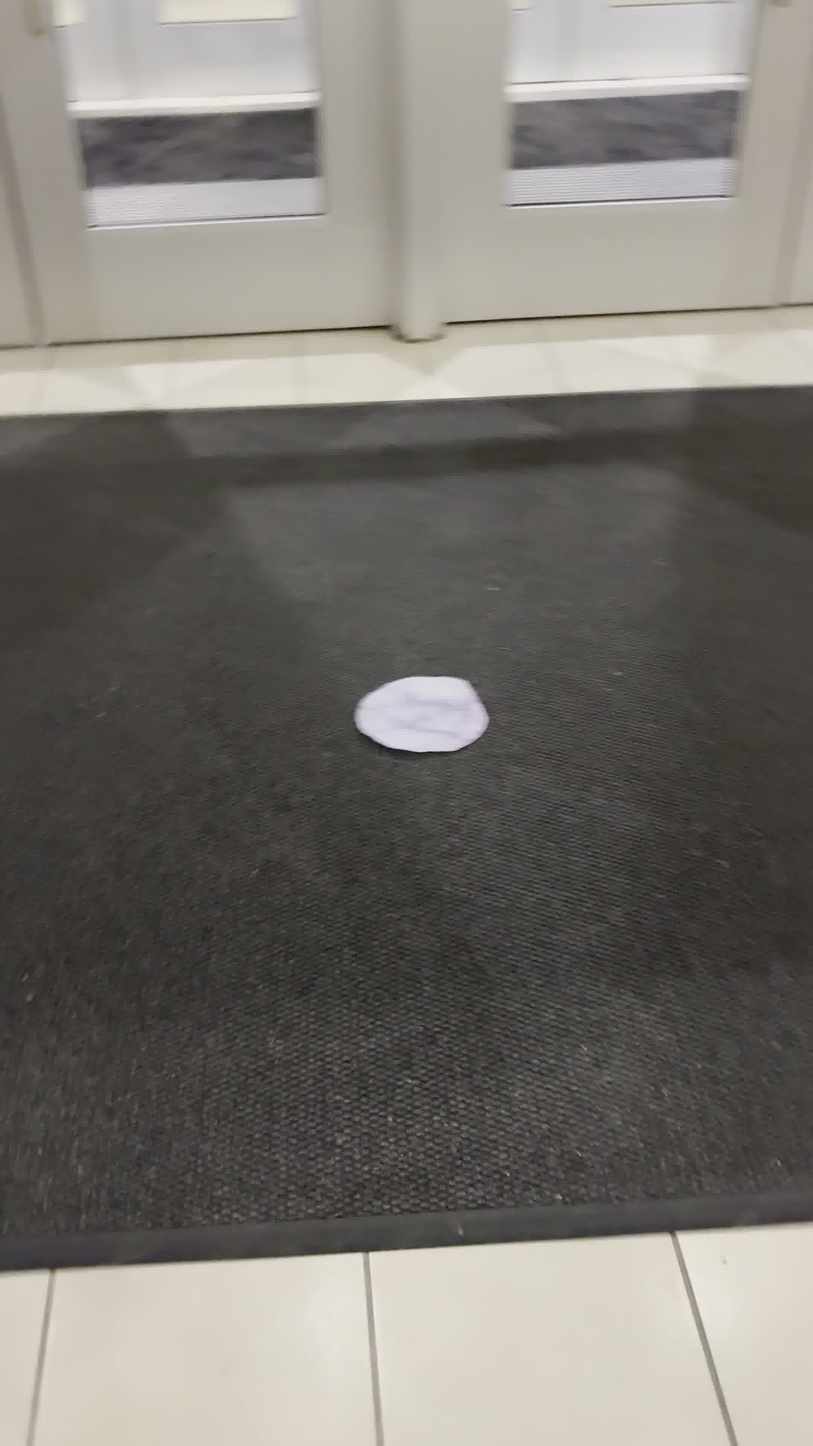Target: (355, 676, 489, 753)
